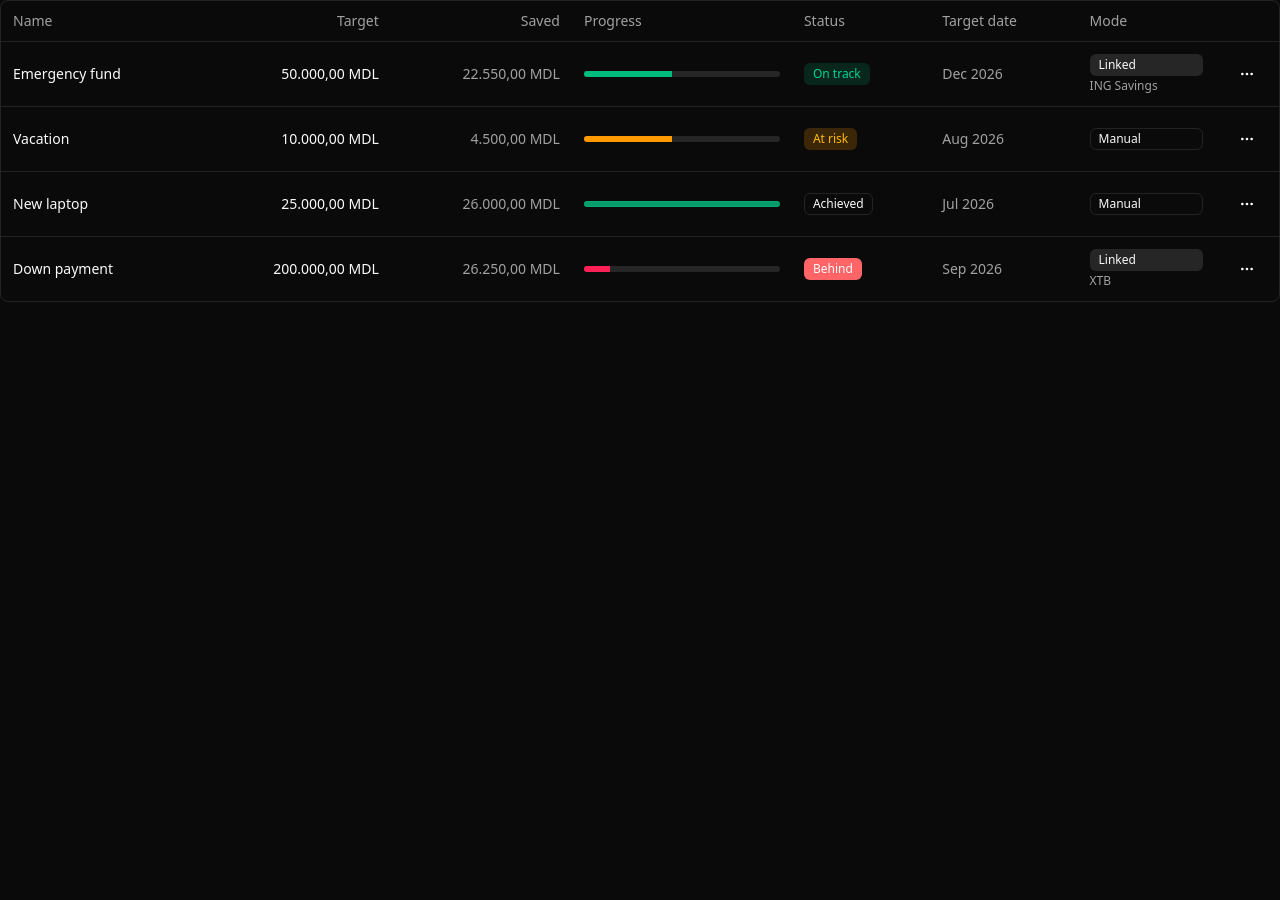
Test: GoalsTable › opens then closes the Update-saved dialog from a manual goal row
This screenshot has width=1280, height=900.
// Vacation (id ...0002) is a manual goal — its menu has "Update saved".
Click the button with test id "goal-actions" at (1247, 138), box [1227,118,1267,158]
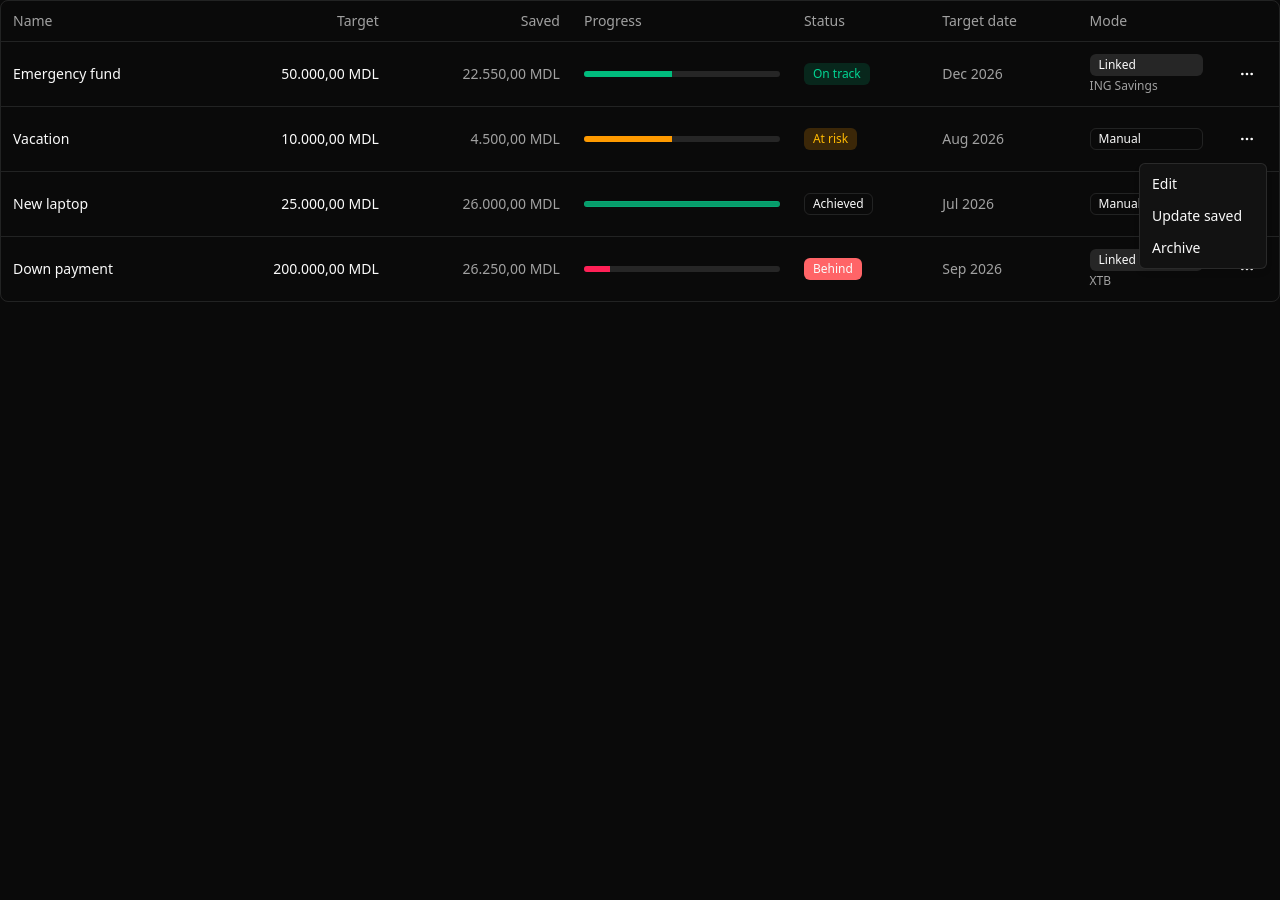
Click the menu item with test id "update-saved-action" at (1197, 216), box [1152,206,1242,225]
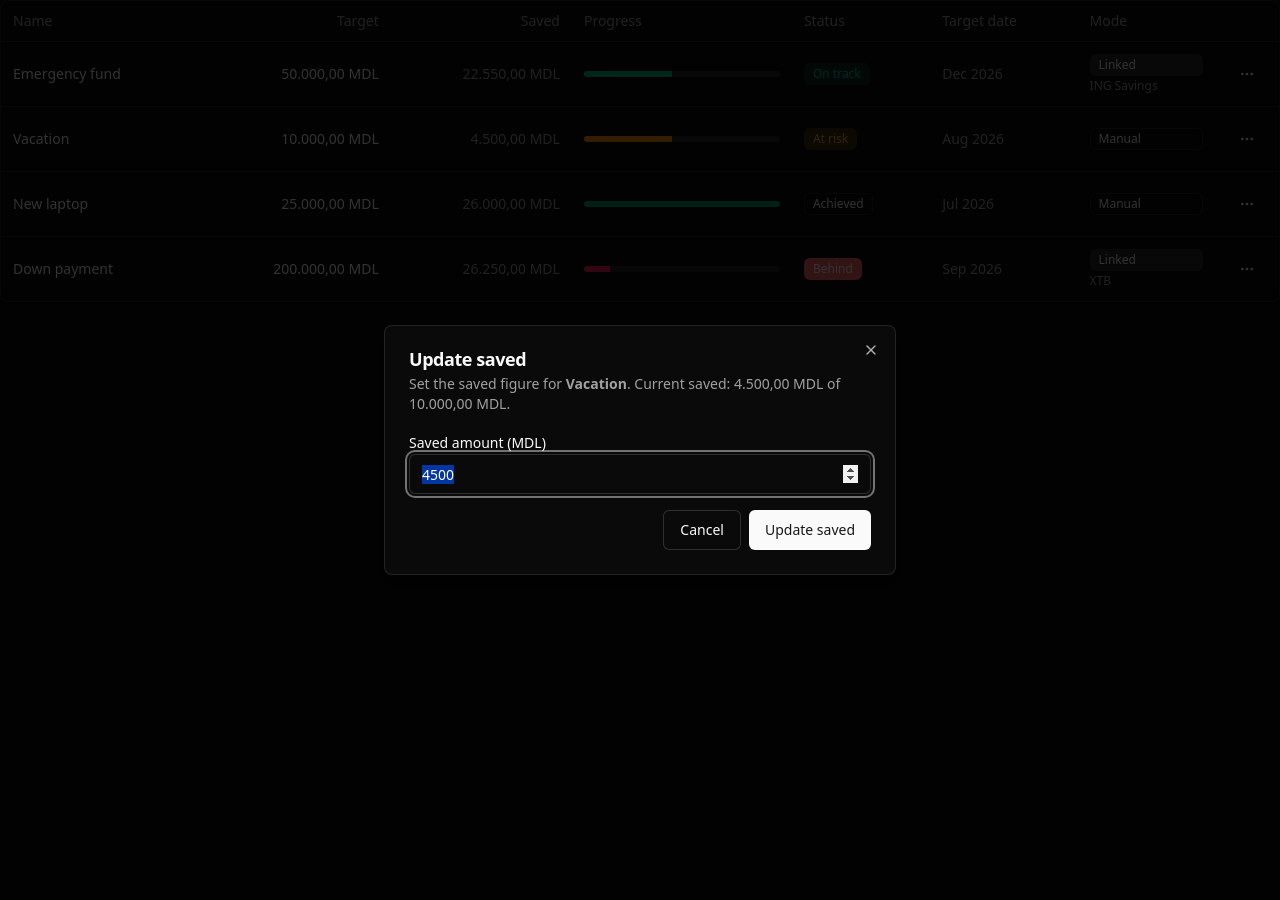
Check: the dialog with test id "update-saved-dialog" is shown, box [384,325,896,575]
Press Escape
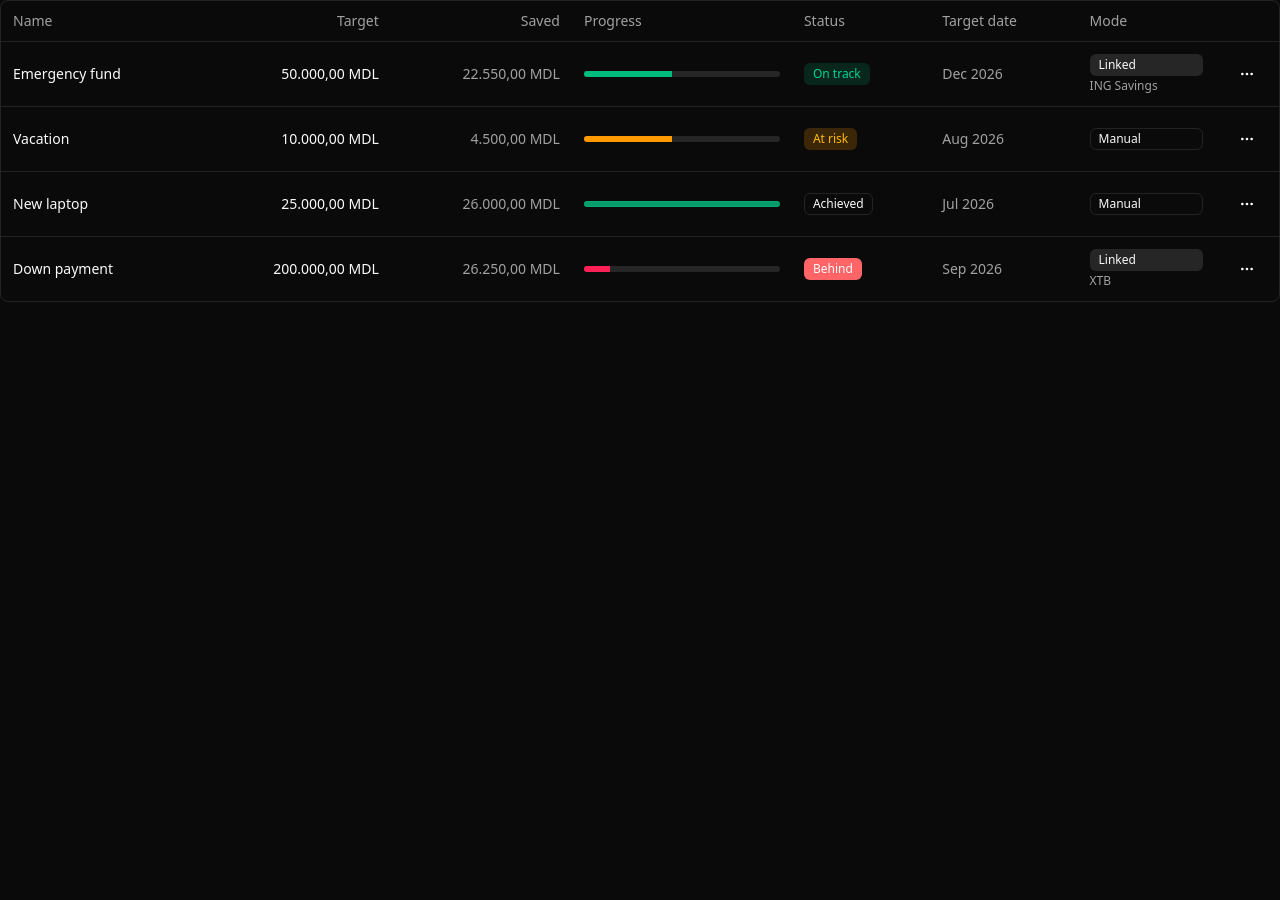
Check: the dialog with test id "update-saved-dialog" is gone
